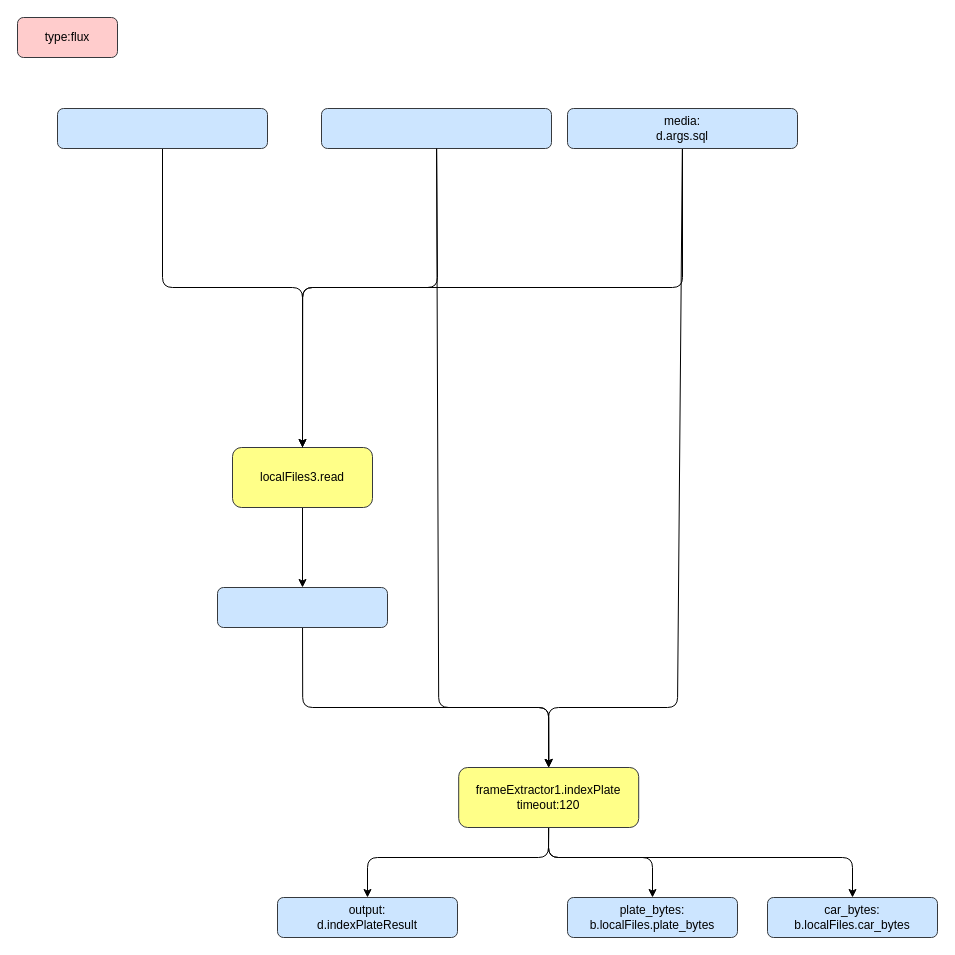
The diagram is 955 pixels wide and 955 high, and some of its shapes have lost their labels. The centre of each missing label's shape, as x and y in pixels:
bytes: b.localFiles.imagePlate: the point at 302,607
source: d.state.sources.localFiles.image: the point at 162,128
timeline: d.state.timelines.timelinePlate: the point at 436,128
